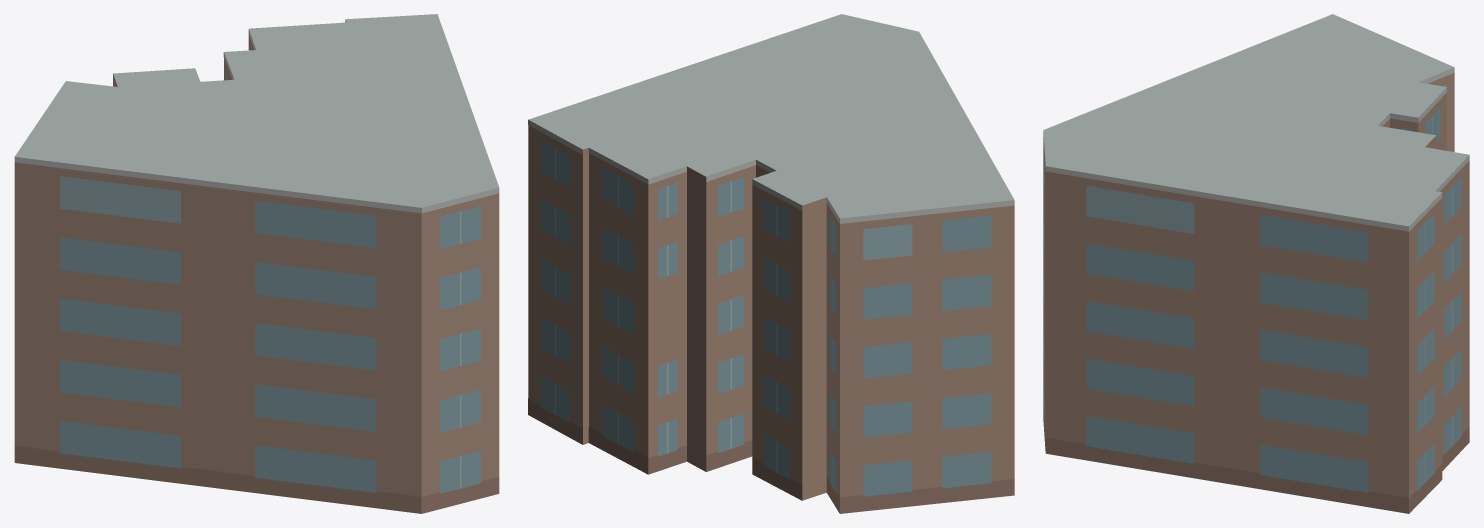
File: survey-upis-32912828.glb
3 views of the same model, side by side, from view 1: azimuth 30°, elevation 25°; view 2: azimuth 150°, elevation 25°; view 3: azimuth 270°, elevation 25° (orthographic). The views are drawn at different scales.
Visible parts, largest first — view 1: survey-upis-32912828.tmp; view 2: survey-upis-32912828.tmp; view 3: survey-upis-32912828.tmp.
Part boxes in pixels (<box>): survey-upis-32912828.tmp: <box>14,14,499,513</box>; survey-upis-32912828.tmp: <box>528,14,1014,513</box>; survey-upis-32912828.tmp: <box>1043,14,1469,513</box>.
Bounding box in the file's own units: 21.25 × 13.4 × 18.02.
